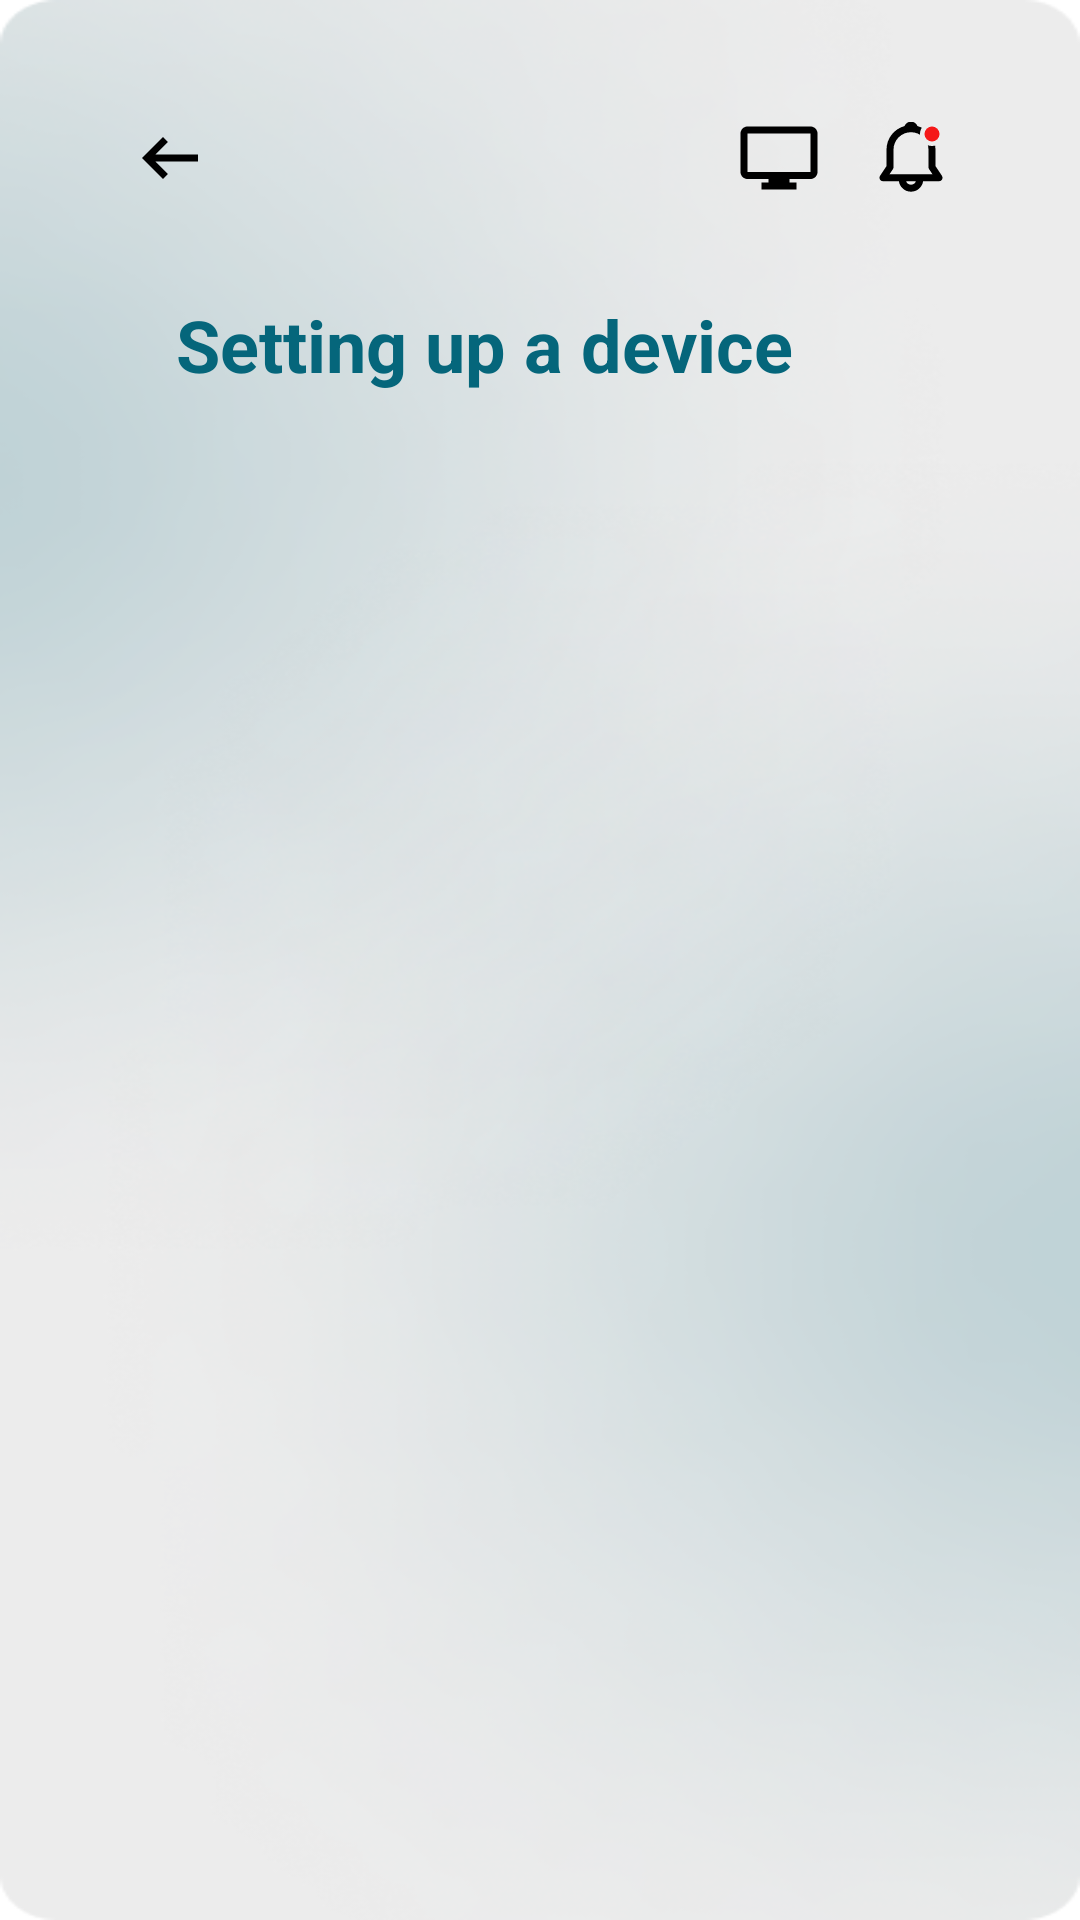

Named icons in this screenshot (1080px x 1920px) and their centers, (x=x, y=y):
mi notification: (x=911, y=157)
monitor: (x=779, y=158)
short left: (x=170, y=158)
